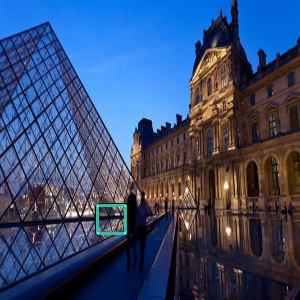square: (95, 203, 127, 235)
